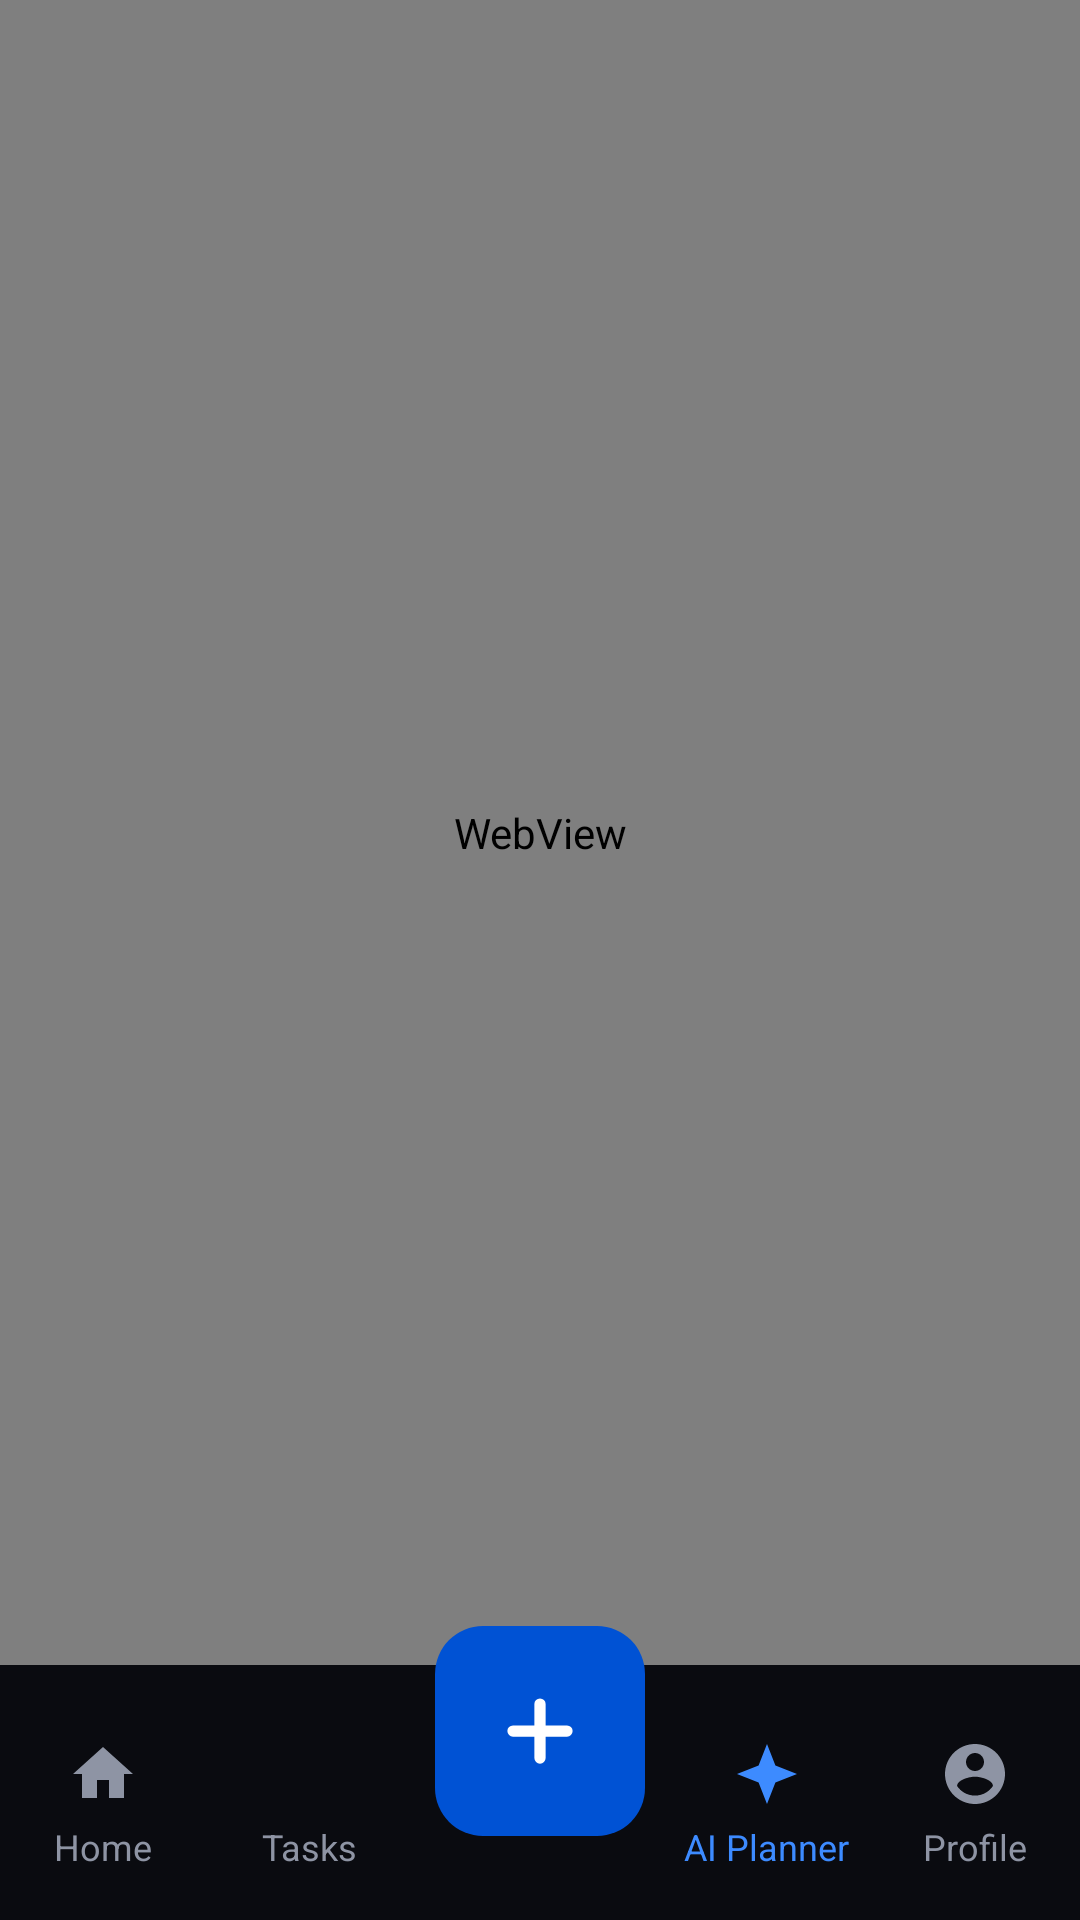

Locate icon controls on the screen. Image size 1080x1920, boxes as (x1, y1, x2, y2).
Add New: (435, 1626, 645, 1836)
